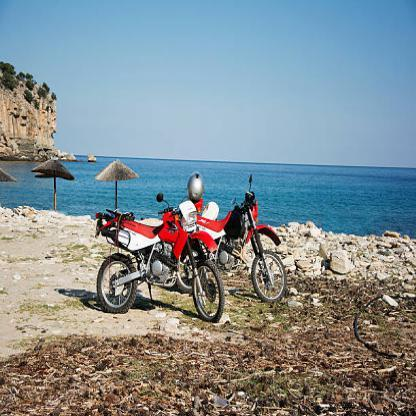Motorcycle: (95, 192, 228, 331), (199, 168, 290, 301)
